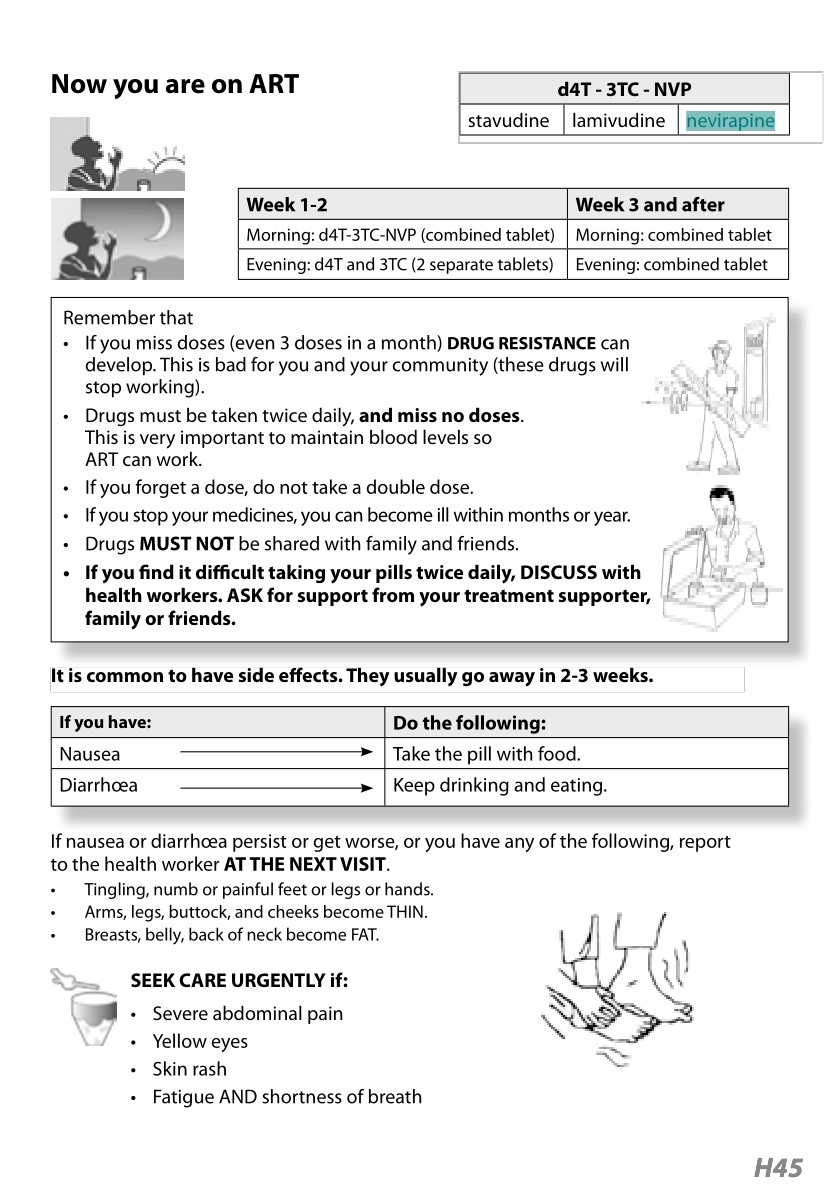full_lined: (50, 706, 789, 807), (236, 187, 789, 280)
merged_cells: (458, 71, 790, 137)
